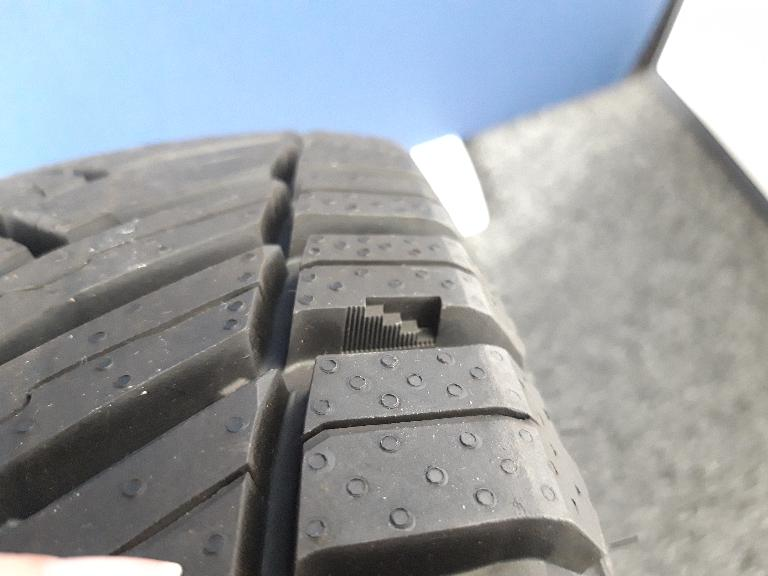temoin:100: (339, 293, 448, 357)
